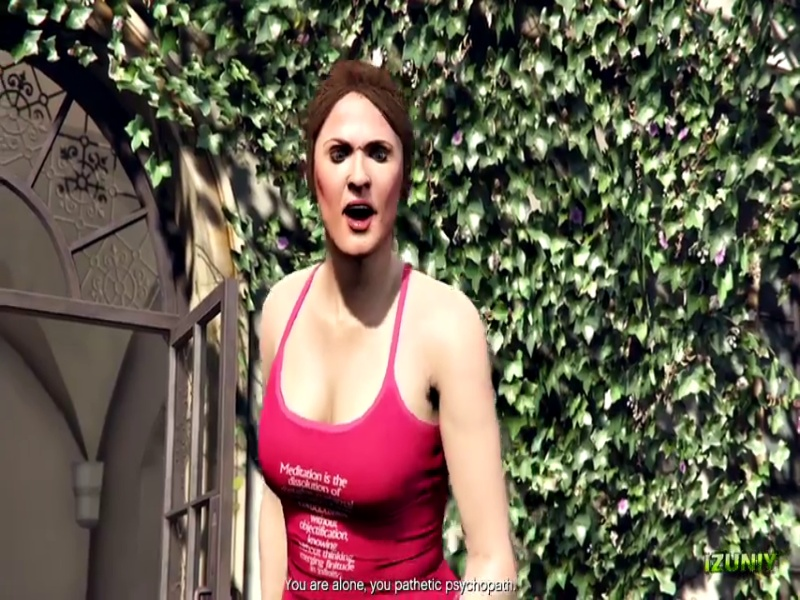human: (246, 61, 531, 592)
